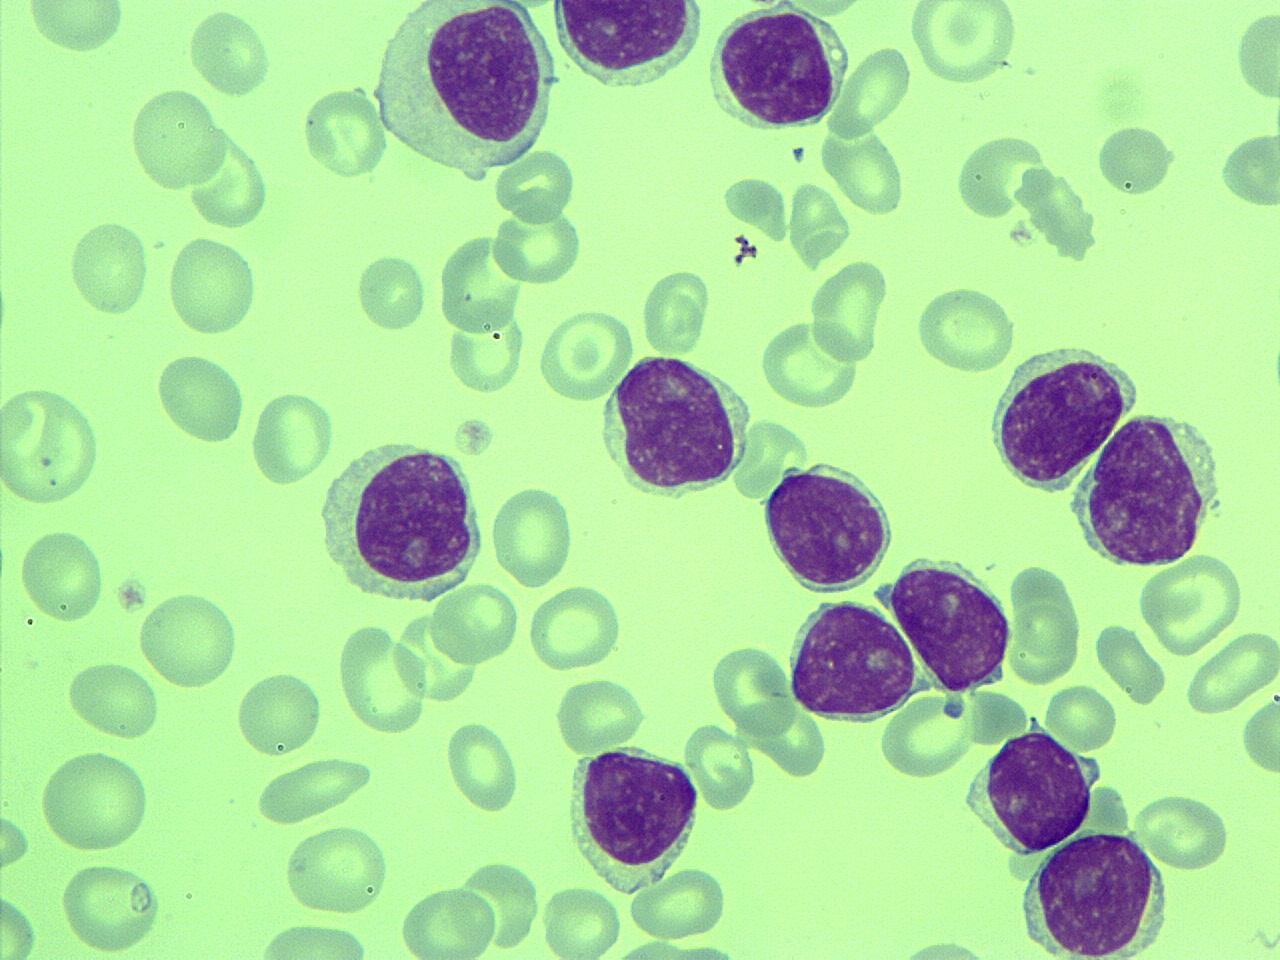Platelets: (1087, 57, 1155, 126)
RBC: (1, 384, 104, 511), (39, 746, 152, 856), (1136, 550, 1246, 658), (136, 587, 239, 693), (127, 85, 226, 193), (338, 620, 429, 736), (756, 314, 862, 411), (164, 233, 261, 340), (280, 824, 392, 916), (58, 860, 164, 956), (435, 229, 526, 336), (488, 482, 578, 588), (877, 686, 976, 781), (910, 2, 1018, 89), (186, 123, 272, 231), (299, 83, 392, 182), (806, 257, 890, 366), (488, 195, 586, 287), (525, 582, 624, 674), (65, 216, 151, 320), (917, 283, 1016, 374), (17, 526, 106, 627), (252, 754, 375, 826), (954, 132, 1050, 224), (248, 386, 334, 488), (708, 640, 796, 738), (153, 352, 245, 446), (392, 607, 480, 705), (186, 4, 274, 101), (1182, 631, 1280, 718), (233, 666, 325, 757), (826, 42, 913, 139), (1129, 790, 1233, 870), (444, 298, 528, 398), (65, 658, 162, 742), (428, 580, 521, 667), (626, 865, 730, 942), (1006, 582, 1083, 684), (824, 124, 909, 216), (398, 881, 498, 959), (552, 674, 648, 754), (444, 717, 522, 815), (1092, 119, 1180, 198), (682, 719, 756, 814), (492, 148, 579, 227), (352, 249, 430, 334), (640, 263, 712, 356), (538, 884, 626, 958), (21, 0, 128, 56), (786, 179, 850, 271), (1040, 680, 1118, 751), (1217, 126, 1280, 212), (1232, 7, 1280, 108), (250, 922, 376, 960), (1239, 690, 1280, 784)
WBC: (313, 431, 489, 605), (1062, 405, 1226, 571), (985, 336, 1137, 495), (596, 348, 748, 502), (562, 740, 703, 892), (1010, 827, 1171, 959), (417, 1, 552, 148), (757, 457, 899, 594), (885, 550, 1018, 694), (705, 2, 845, 135), (786, 594, 916, 724), (977, 726, 1103, 854), (548, 1, 702, 82)
